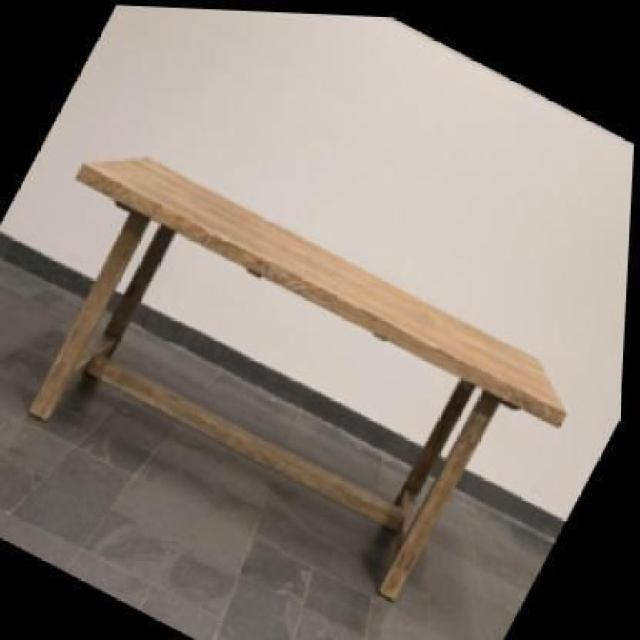tables: (26, 153, 566, 602)
